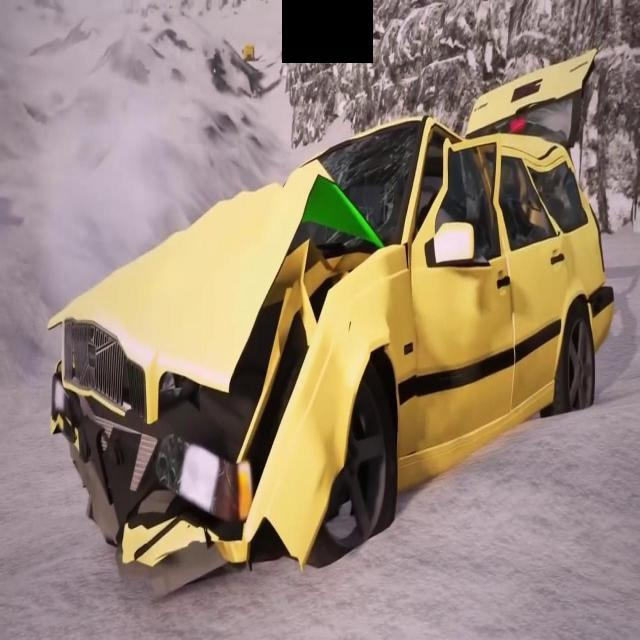severe: (40, 38, 620, 599)
